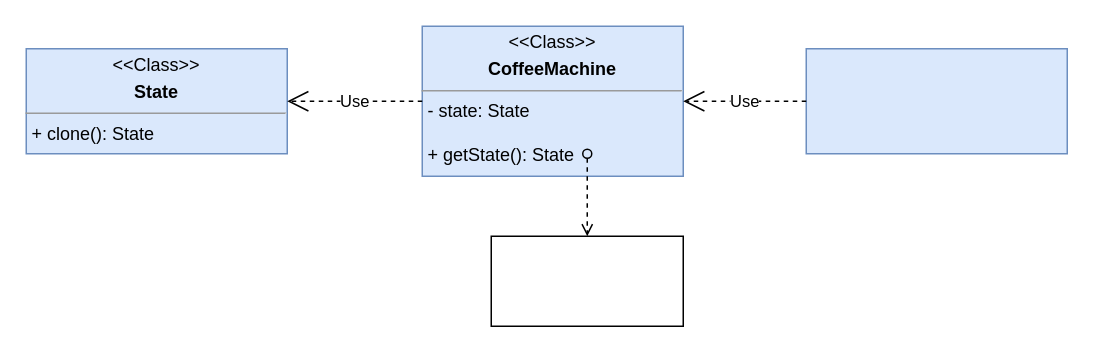
The diagram is 1094 pixels wide and 353 high, and some of its shapes have lost their labels. Each missing label, with the centre of its shape:
<<Class>> Client + state: State: point 936,100
State getState() { state.clone(); }: point 586,280
